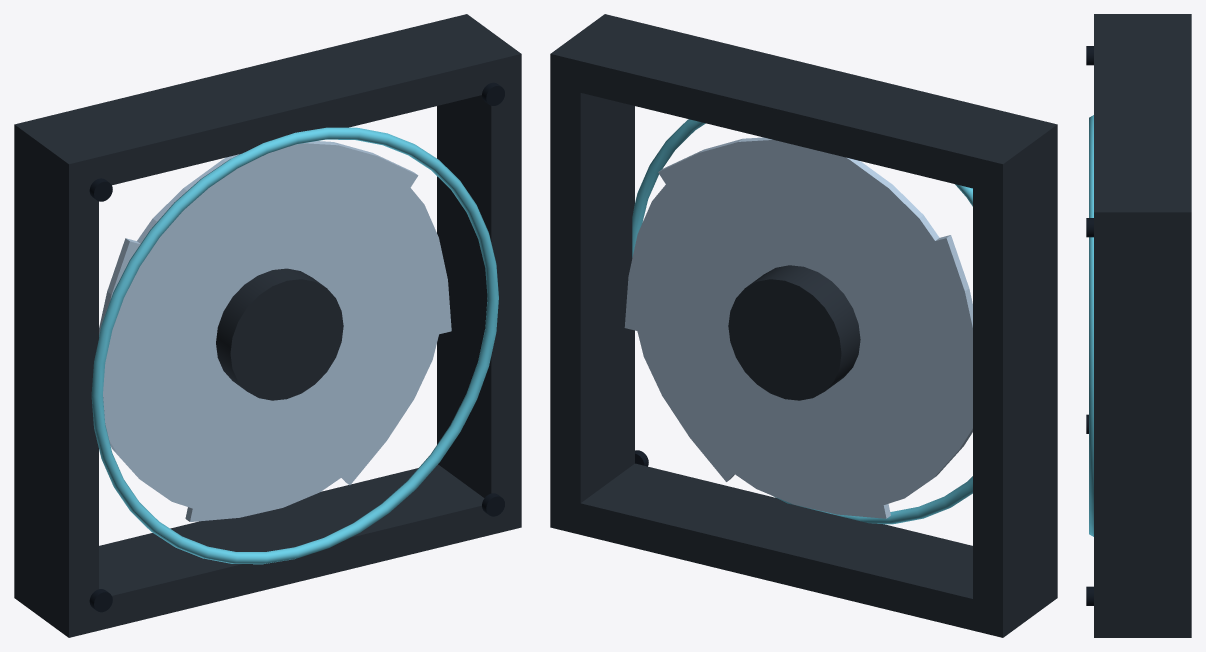
The model's file is retail-thermaltake-swafan-ex12-argb-sync.glb.
The picture shows the model from 3 angles, left to right: view 1: azimuth 30°, elevation 25°; view 2: azimuth 150°, elevation 25°; view 3: azimuth 270°, elevation 25°; orthographic projection. The views are drawn at different scales.
Visible parts, largest first — view 1: Frame edge (×4), Blade (×7), Intake rim, Motor hub; view 2: Frame edge (×4), Blade (×7), Motor hub, Intake rim; view 3: Frame edge (×3), Intake rim.
Boxes of the visible parts, x1,y1,x2,y2 form: Frame edge (×4): (14, 14, 521, 637); Blade (×7): (99, 141, 451, 521); Intake rim: (91, 127, 498, 564); Motor hub: (216, 268, 343, 400); Frame edge (×4): (550, 14, 1057, 637); Blade (×7): (624, 137, 972, 518); Motor hub: (728, 265, 860, 400); Intake rim: (632, 119, 972, 524); Frame edge (×3): (1094, 14, 1191, 637); Intake rim: (1089, 115, 1093, 536).
Size of the model in its own units: 0.12 by 0.12 by 0.027.
